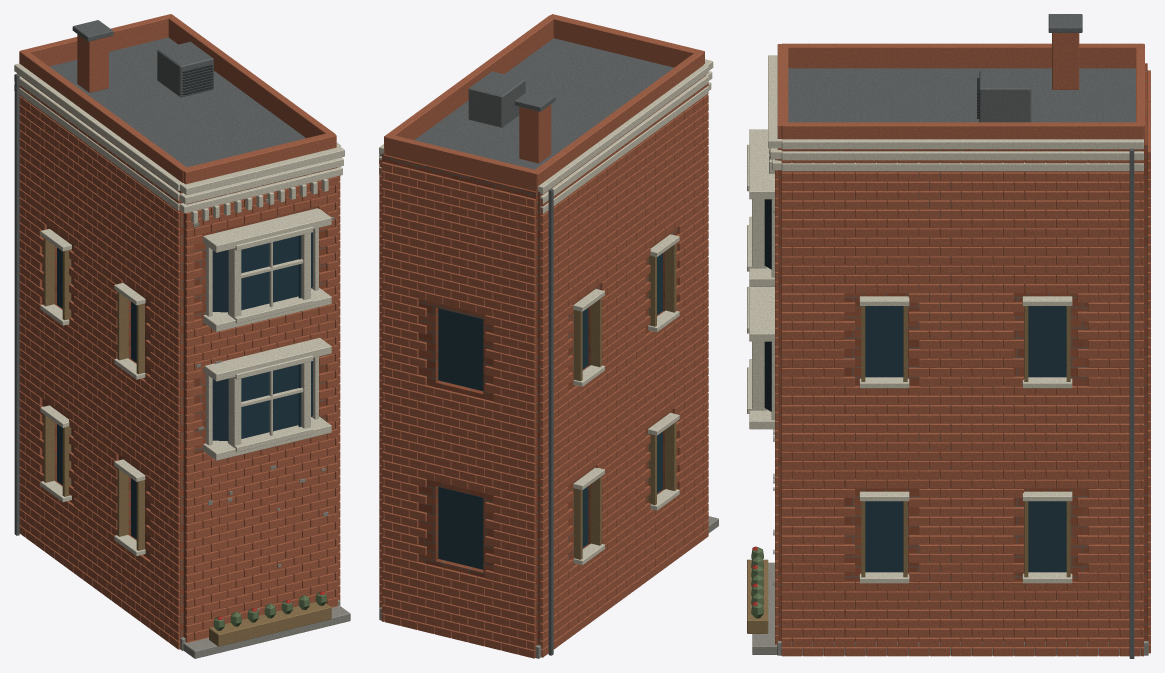
The model's file is VICT17_lod0.glb.
The picture shows the model from 3 angles, left to right: view 1: azimuth 30°, elevation 25°; view 2: azimuth 150°, elevation 25°; view 3: azimuth 270°, elevation 25°; orthographic projection. The views are drawn at different scales.
Visible parts, largest first — view 1: VICT17_LOD0; view 2: VICT17_LOD0; view 3: VICT17_LOD0.
Boxes of the visible parts, x1,y1,x2,y2 form: VICT17_LOD0: [14, 14, 350, 658]; VICT17_LOD0: [379, 14, 718, 658]; VICT17_LOD0: [747, 14, 1150, 658].
Bounding box in the file's own units: 3.71 × 10.45 × 6.69.
13 materials, 11 textured.
